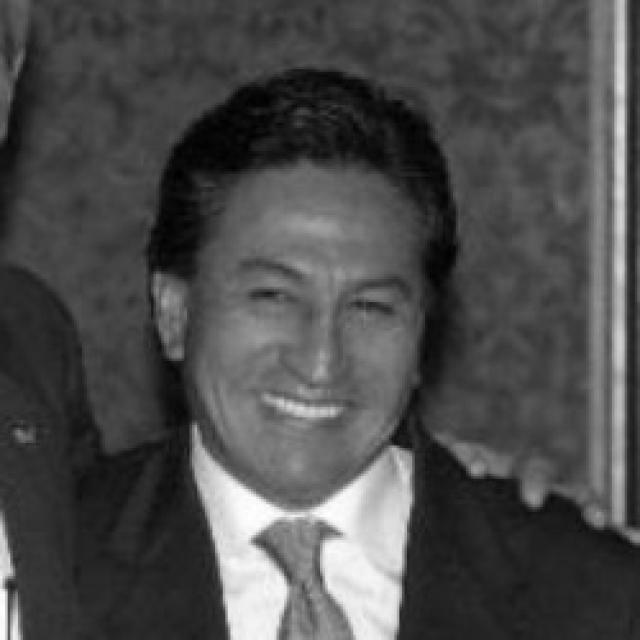real: (170, 150, 434, 489), (225, 265, 407, 335)
